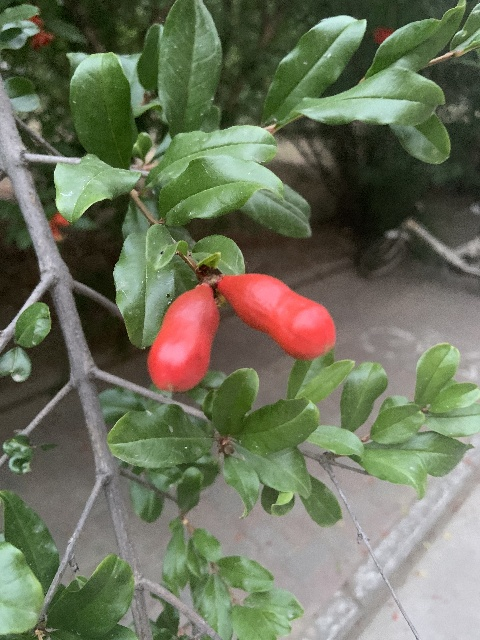bud: (216, 272, 336, 362), (147, 283, 218, 393)
